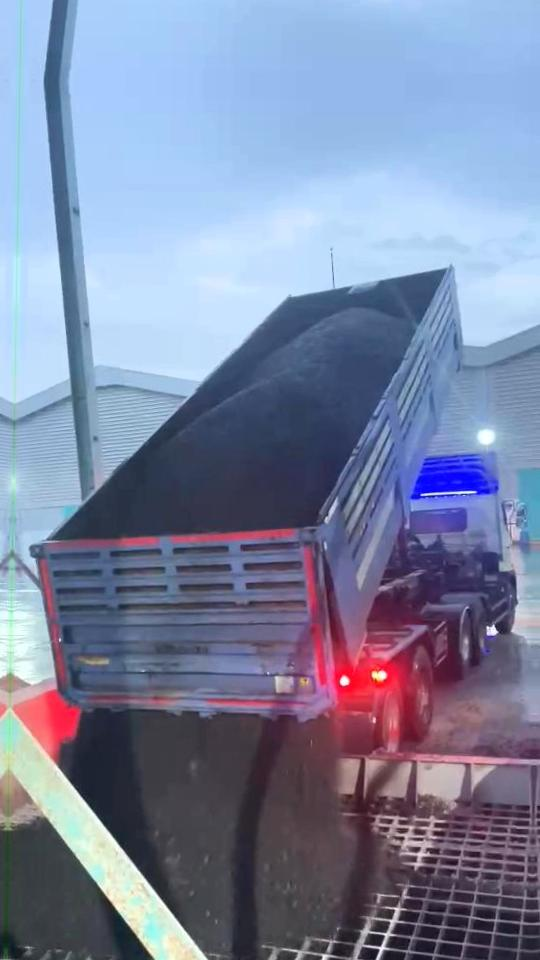gravel: (71, 711, 373, 956), (121, 309, 412, 535), (7, 815, 145, 960)
